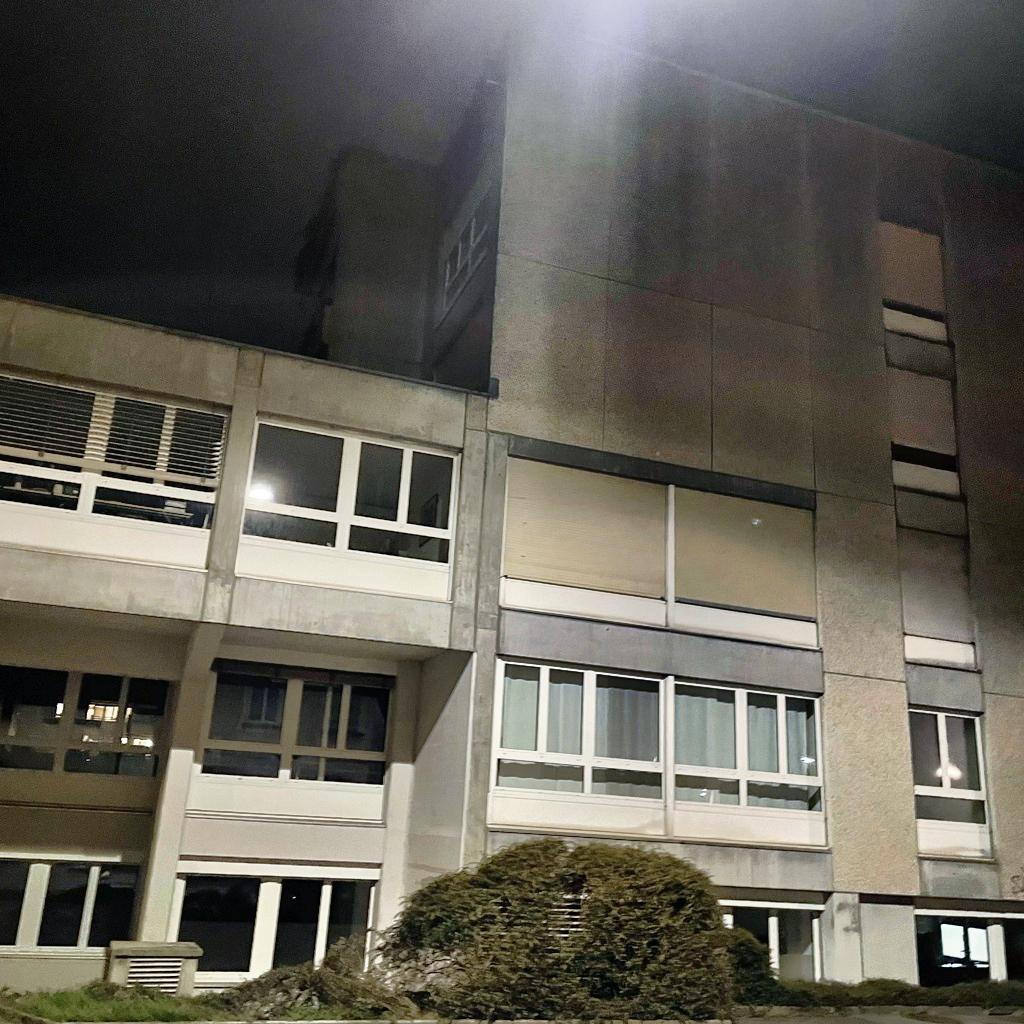facade: (0, 23, 1024, 988)
vegetation: (0, 829, 1024, 1024)
window: (488, 654, 823, 814), (0, 360, 237, 532), (240, 412, 467, 564), (498, 453, 668, 602), (191, 670, 394, 785), (166, 874, 376, 981), (674, 487, 817, 623), (0, 852, 144, 954), (907, 703, 993, 828), (898, 525, 977, 645), (442, 171, 502, 318), (875, 219, 945, 314), (885, 366, 958, 457), (939, 923, 989, 968)
